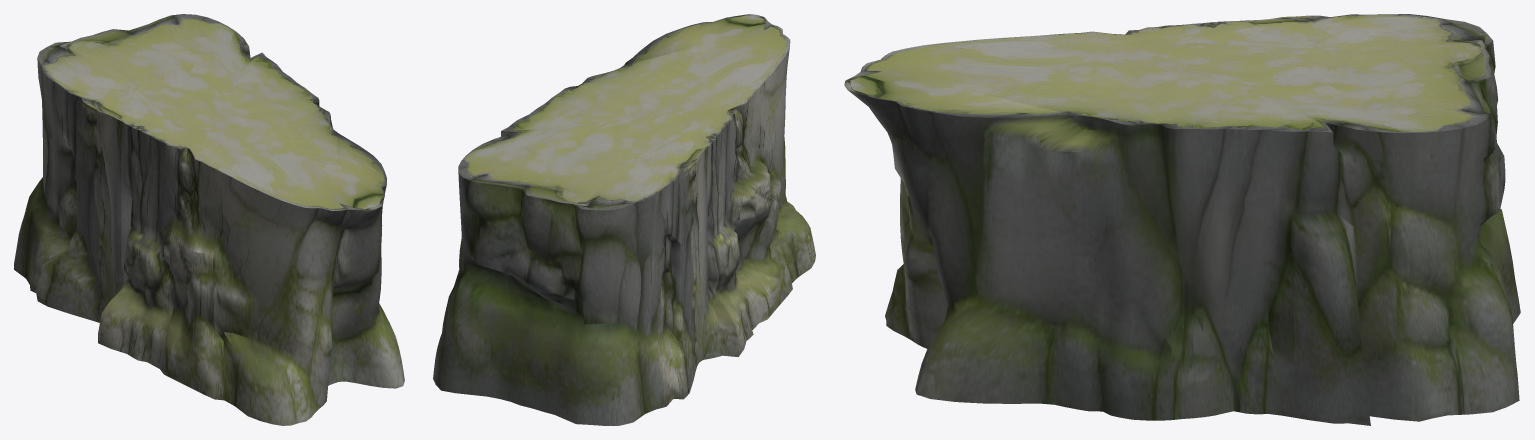
File: GateSpur_LOD0.fbx
3 renders of one model, left to right at view 1: azimuth 30°, elevation 25°; view 2: azimuth 150°, elevation 25°; view 3: azimuth 270°, elevation 25°, orthographic. The views are drawn at different scales.
Visible parts, largest first — view 1: GateSpur_LOD0; view 2: GateSpur_LOD0; view 3: GateSpur_LOD0.
Boxes of the visible parts, box(x1,y1,x2,y2) form: GateSpur_LOD0: box(14, 14, 404, 425); GateSpur_LOD0: box(433, 14, 815, 425); GateSpur_LOD0: box(844, 14, 1520, 425).
Bounding box in the file's own units: 9.33 × 8.05 × 17.85.
1 material, 1 textured.
